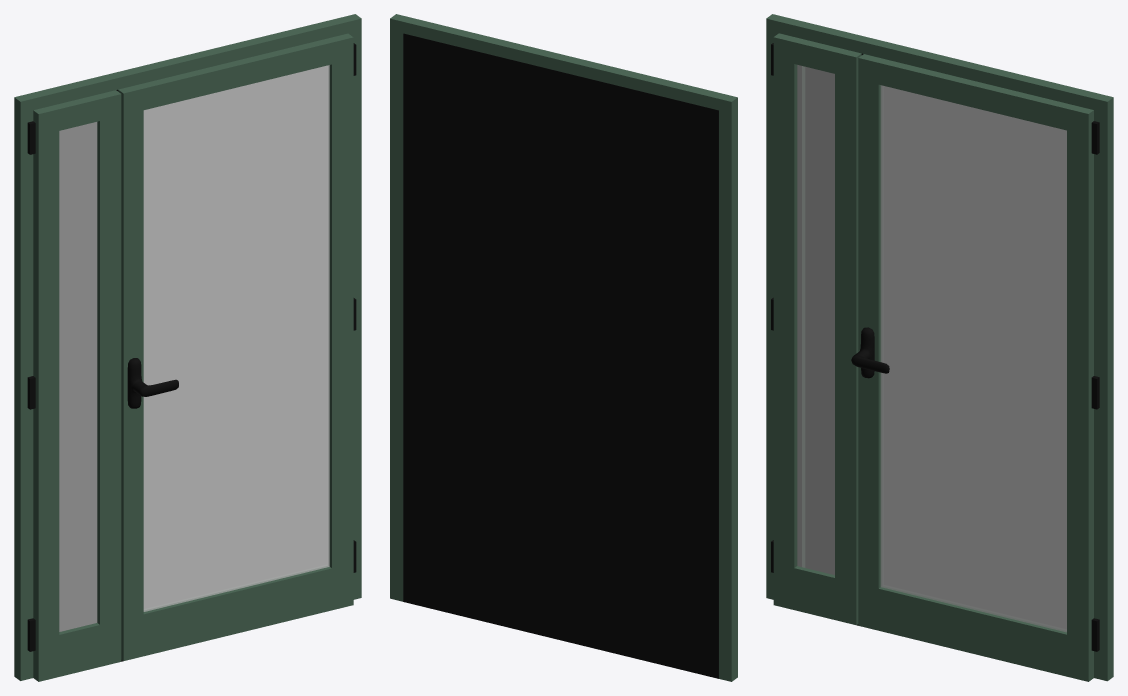
Rendered from PortaDX.fbx.
The picture shows the model from 3 angles, left to right: view 1: azimuth 30°, elevation 25°; view 2: azimuth 150°, elevation 25°; view 3: azimuth 330°, elevation 25°; orthographic projection.
Parts seen in each view (by area): view 1: Porta.003, Struttura; view 2: Struttura; view 3: Porta.003, Struttura.
Part boxes in pixels (x1,y1,x2,y2): Porta.003: (118, 33, 353, 661); Struttura: (14, 14, 361, 681); Struttura: (390, 14, 737, 681); Porta.003: (851, 54, 1093, 681); Struttura: (766, 14, 1113, 681).
Size of the model in its own units: 324 by 525 by 41.25.
